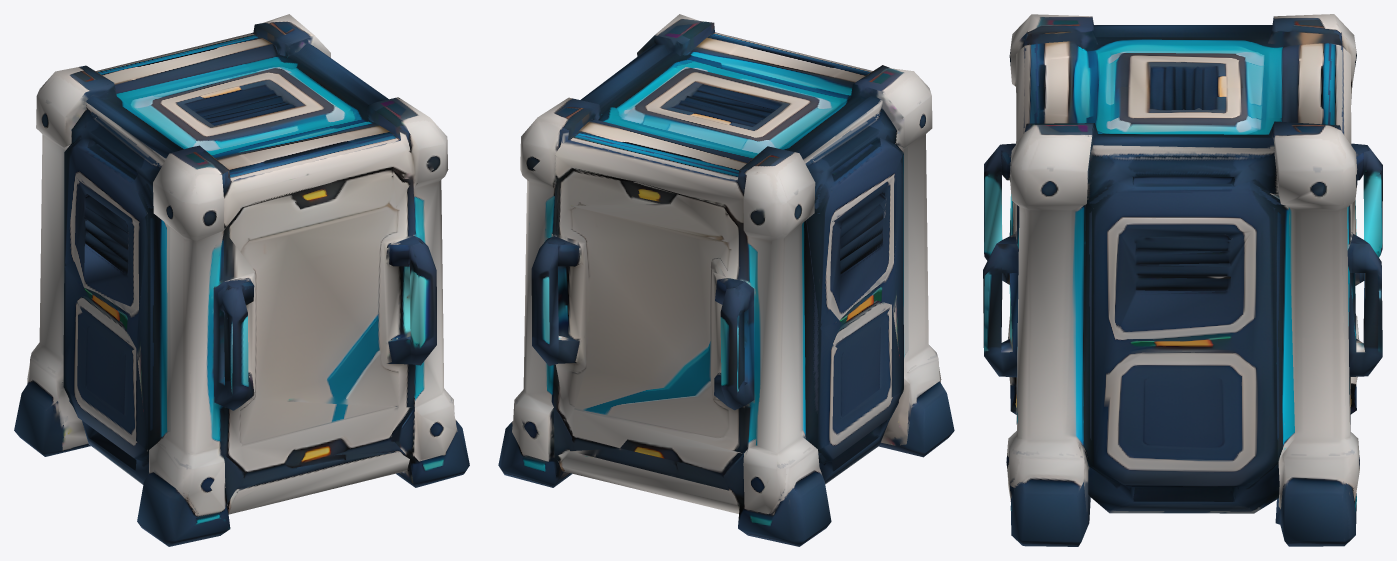
Rendered from cryo-relay-cabinet_LOD1.glb.
3 renders of one model, left to right at view 1: azimuth 30°, elevation 25°; view 2: azimuth 150°, elevation 25°; view 3: azimuth 270°, elevation 25°, orthographic. The views are drawn at different scales.
Parts seen in each view (by area): view 1: cryo-relay-cabinet_LOD1; view 2: cryo-relay-cabinet_LOD1; view 3: cryo-relay-cabinet_LOD1.
Part boxes in pixels (x1,y1,x2,y2): cryo-relay-cabinet_LOD1: [14, 14, 469, 546]; cryo-relay-cabinet_LOD1: [498, 14, 954, 546]; cryo-relay-cabinet_LOD1: [983, 14, 1382, 546].
Bounding box in the file's own units: 1.41 × 1.6 × 1.47.
Materials: 1 (1 with a texture image).
